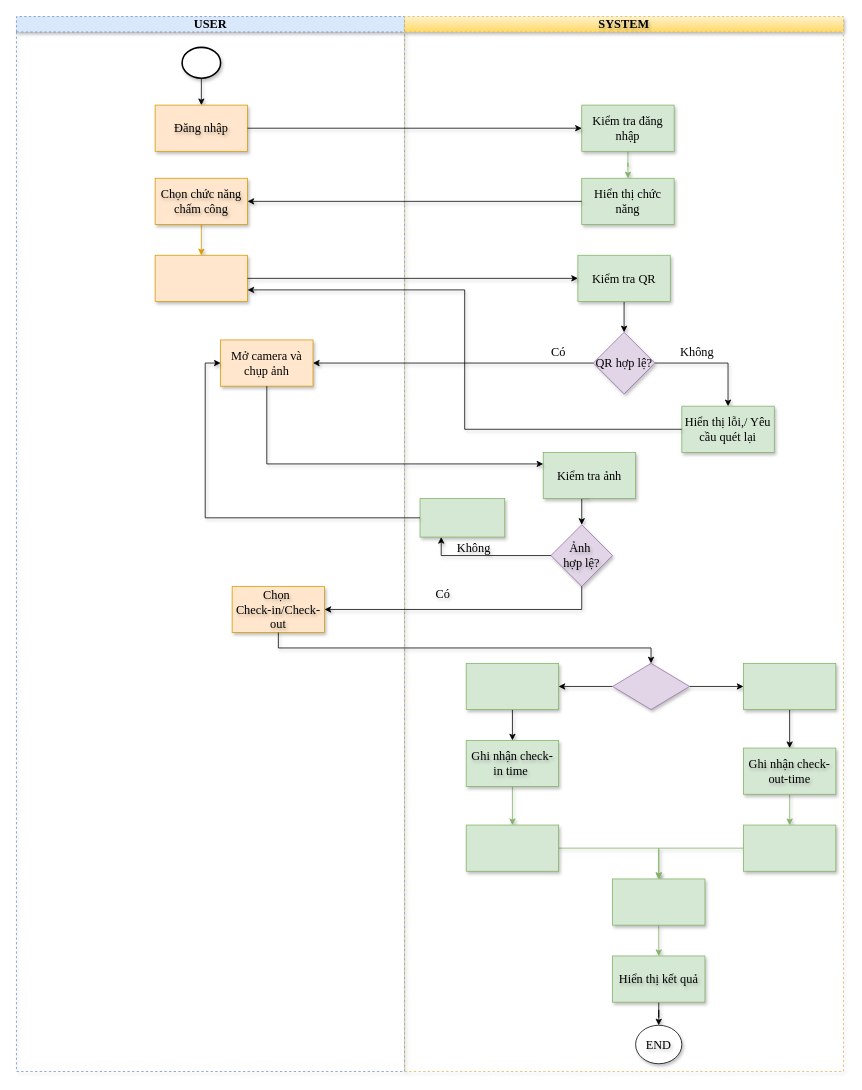
This 862x1090 diagram has some shape labels left out. Each missing label, with the centre of its shape:
Check-in: [512,687]
Check-in hay Check-out: [651,687]
Check-out: [790,687]
Lưu dữ liệu chấm công: [659,903]
Quét QR động: [201,279]
START: [202,63]
Tính thòi gian đi trễ: [512,849]
Tính thời gian về sớm: [790,849]
Yêu cầu chụp lại: [462,518]
